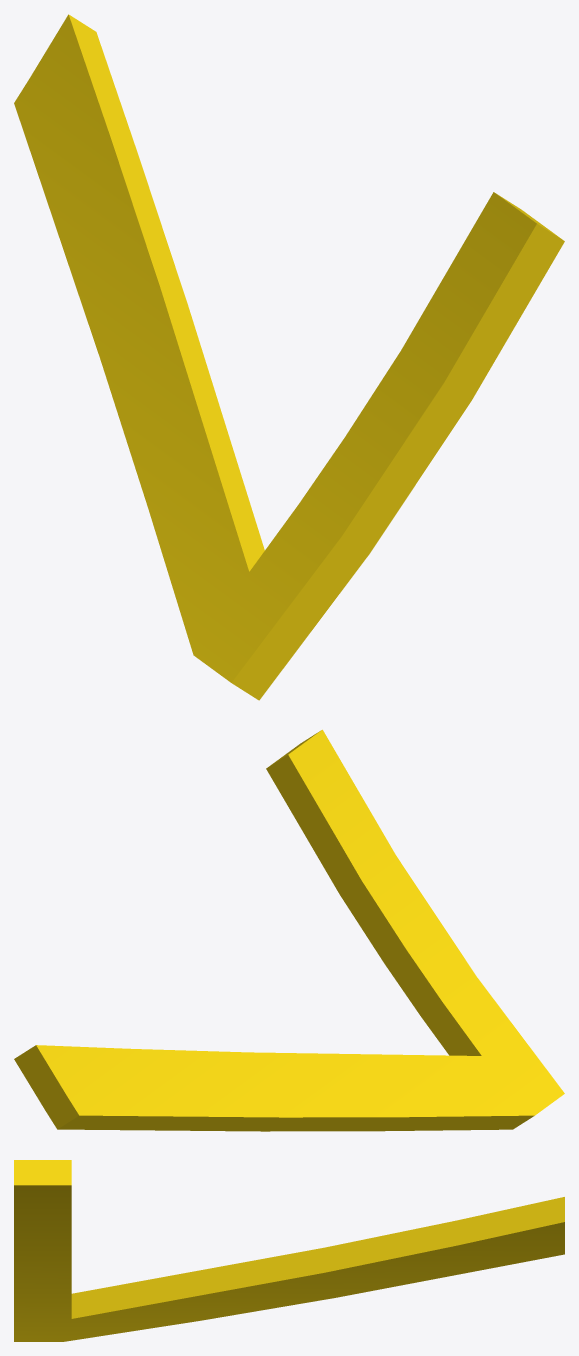
Rendered from Number_7.gltf.
The picture shows the model from 3 angles, top to bottom: view 1: azimuth 30°, elevation 25°; view 2: azimuth 150°, elevation 25°; view 3: azimuth 270°, elevation 25°; orthographic projection. The views are drawn at different scales.
Visible parts, largest first — view 1: Sub_4_Cell_1_3_Number_7; view 2: Sub_4_Cell_1_3_Number_7; view 3: Sub_4_Cell_1_3_Number_7.
Part boxes in pixels (x1,y1,x2,y2): Sub_4_Cell_1_3_Number_7: [14, 14, 564, 700]; Sub_4_Cell_1_3_Number_7: [14, 729, 564, 1131]; Sub_4_Cell_1_3_Number_7: [14, 1160, 564, 1341].
Size of the model in its own units: 0.0117 by 0.0137 by 0.0252.
